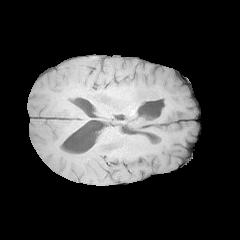glioma: (124, 82, 169, 132)
